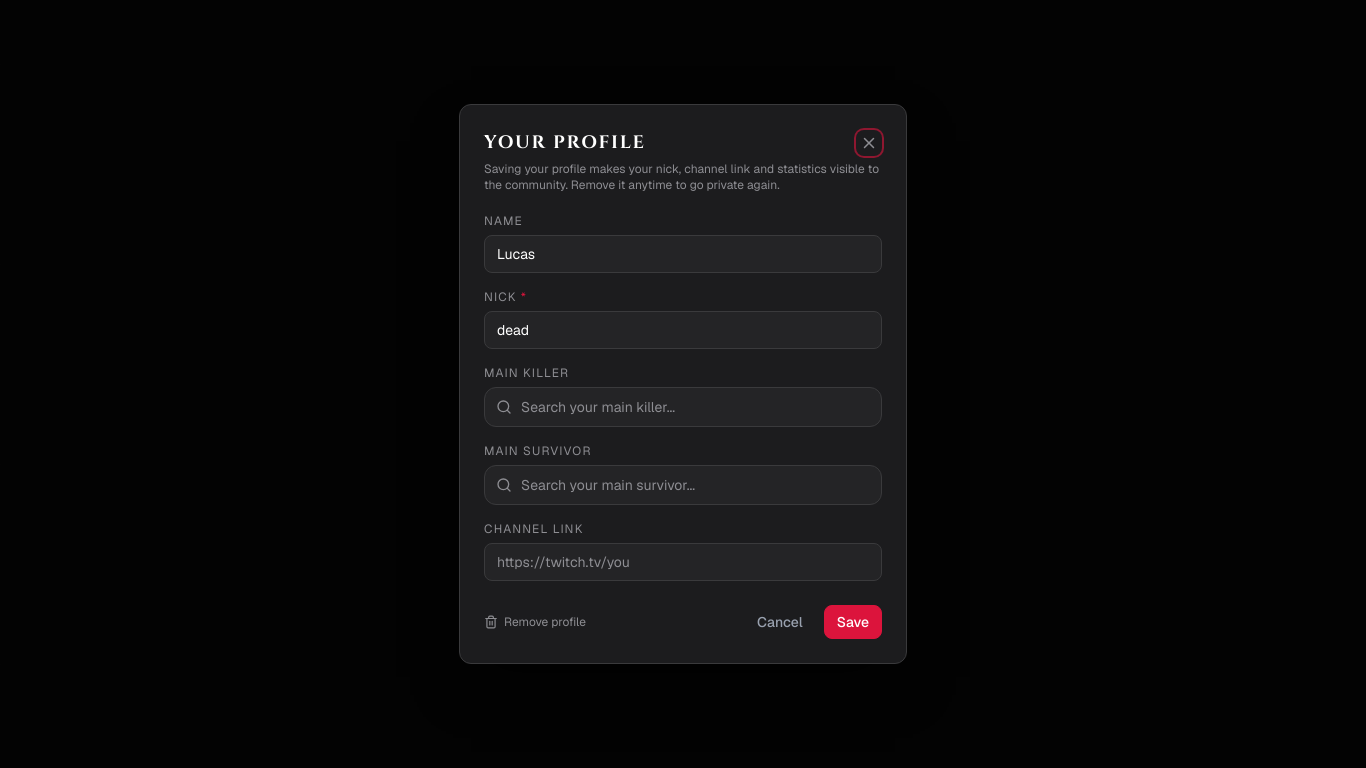
it: ProfileDialog › rejects a non-https channel link and does not save
Type "http://insecure.com" into the field labelled "Channel link".
click(683, 562); type("http://insecure.com")  # box x1=484 y1=543 x2=882 y2=581
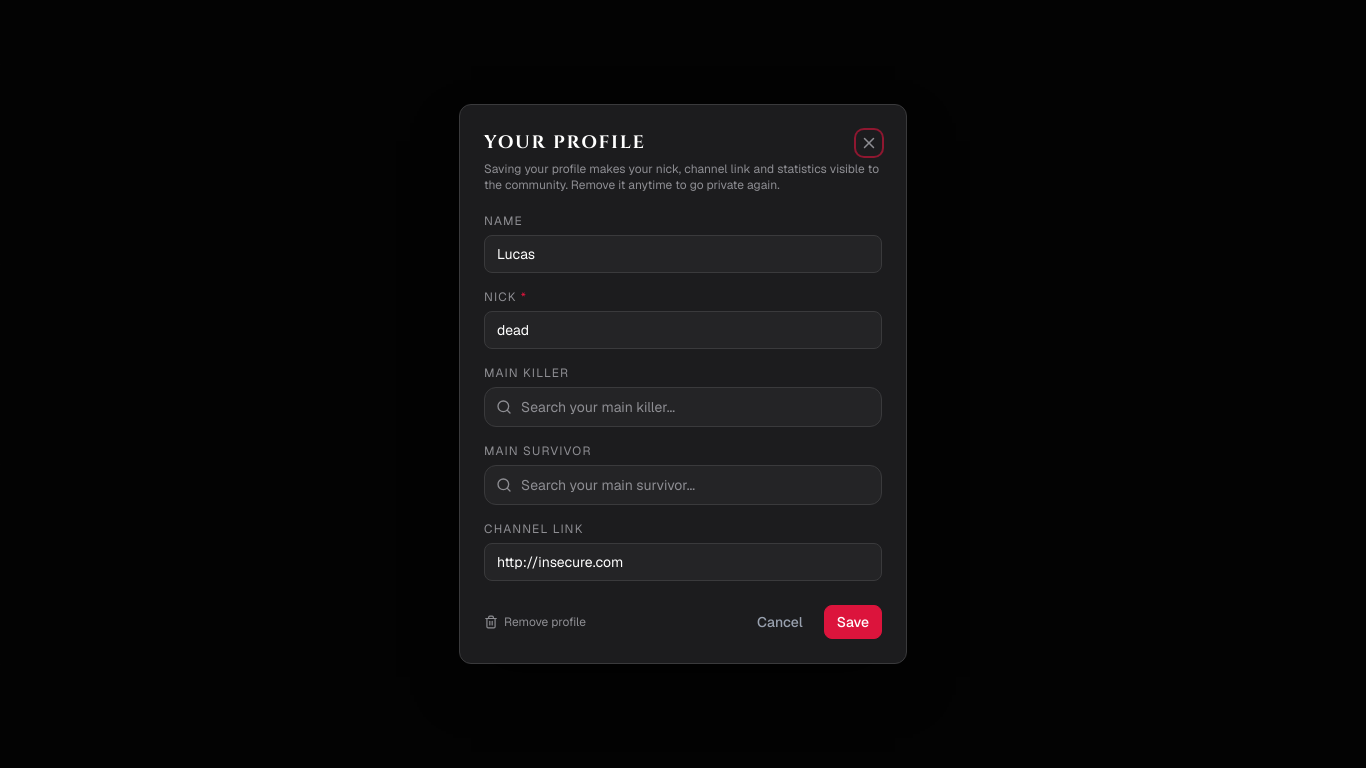
Click the button "Save".
click(853, 622)  # box x1=824 y1=605 x2=882 y2=639
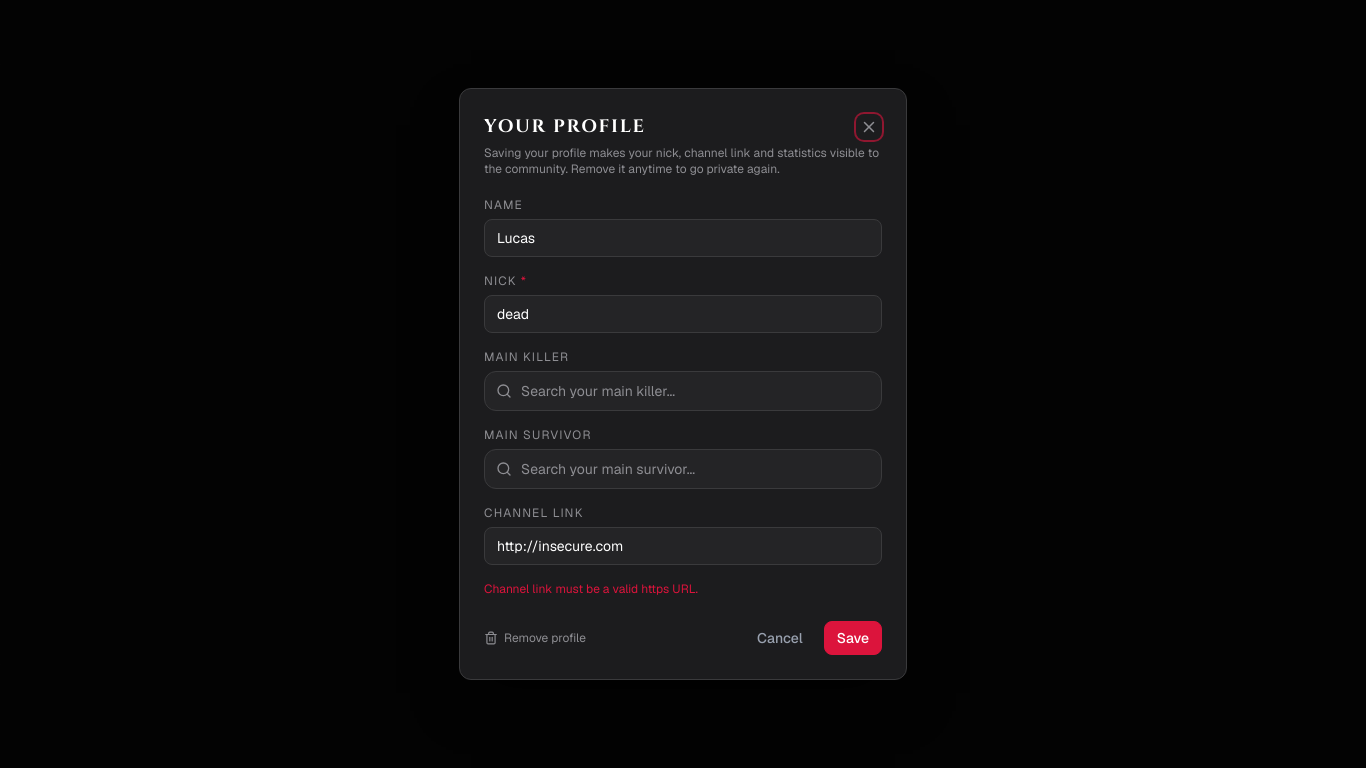
Result: the message shows "valid https URL" at x1=484 y1=581 x2=698 y2=597
